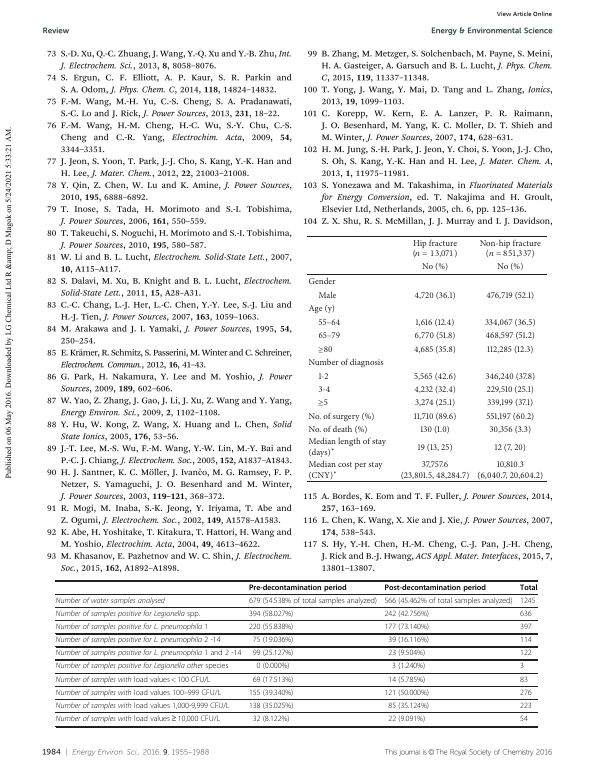borderless: (55, 579, 537, 726), (305, 234, 547, 481)
cell: (307, 436, 387, 458), (55, 701, 231, 711), (55, 649, 242, 658), (307, 459, 383, 481), (55, 688, 222, 698), (55, 635, 221, 645), (55, 714, 221, 724), (55, 662, 229, 671), (400, 459, 470, 481), (55, 622, 209, 632), (476, 459, 544, 481), (55, 609, 201, 619), (479, 238, 542, 261), (55, 675, 211, 684), (248, 596, 378, 606), (383, 596, 513, 606), (55, 596, 166, 606), (412, 238, 458, 261), (383, 583, 487, 592), (248, 583, 347, 592), (307, 357, 385, 368), (307, 411, 375, 421), (307, 424, 368, 435), (484, 317, 537, 328), (484, 371, 536, 382), (485, 290, 535, 301), (486, 384, 535, 395), (485, 331, 536, 341), (485, 411, 535, 421), (413, 290, 457, 301), (413, 371, 457, 382), (413, 384, 457, 395), (488, 424, 532, 435), (486, 344, 534, 354), (486, 398, 534, 408), (383, 609, 430, 619), (383, 622, 430, 632), (383, 688, 430, 698), (248, 609, 294, 619), (248, 622, 294, 632), (248, 688, 294, 698), (248, 701, 294, 711), (415, 317, 455, 328), (413, 344, 457, 354), (413, 411, 457, 421), (387, 635, 430, 645), (387, 701, 430, 711), (414, 331, 456, 341), (414, 398, 456, 408), (252, 635, 294, 645), (387, 714, 426, 724), (416, 442, 454, 452), (252, 714, 290, 724), (252, 649, 294, 658), (252, 675, 294, 684), (419, 424, 451, 435), (387, 649, 426, 658), (387, 675, 426, 684), (307, 276, 337, 287), (494, 442, 527, 452), (307, 303, 336, 314), (255, 662, 290, 671), (391, 662, 426, 671), (421, 262, 449, 272), (496, 262, 524, 272), (317, 317, 341, 328), (317, 331, 341, 341), (317, 341, 333, 356), (317, 290, 337, 301), (317, 394, 329, 410), (519, 583, 538, 592), (519, 596, 536, 606), (317, 384, 331, 395), (519, 609, 533, 619), (519, 622, 533, 632), (519, 635, 533, 645), (519, 688, 533, 698), (519, 701, 533, 711), (317, 371, 329, 382), (519, 649, 533, 658), (519, 714, 529, 724), (519, 675, 529, 684), (519, 662, 525, 671)
